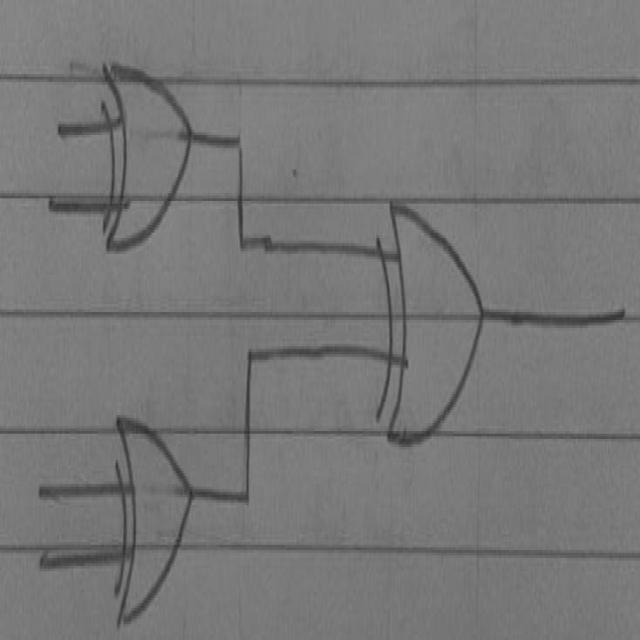XOR: (369, 155, 504, 470), (98, 22, 210, 280), (101, 372, 197, 637)
